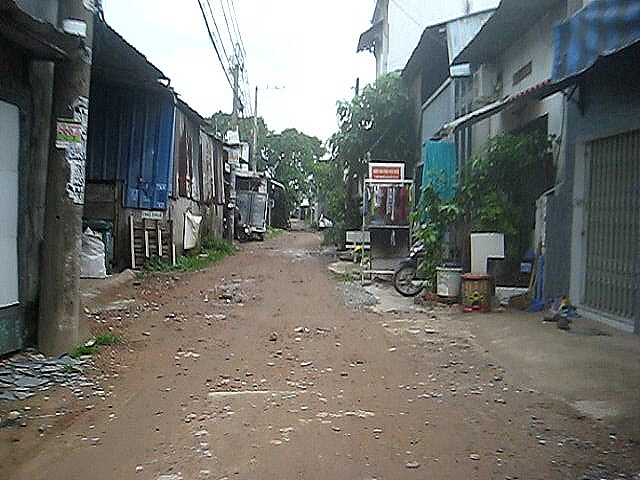hole: (196, 273, 258, 309), (279, 247, 328, 260)
